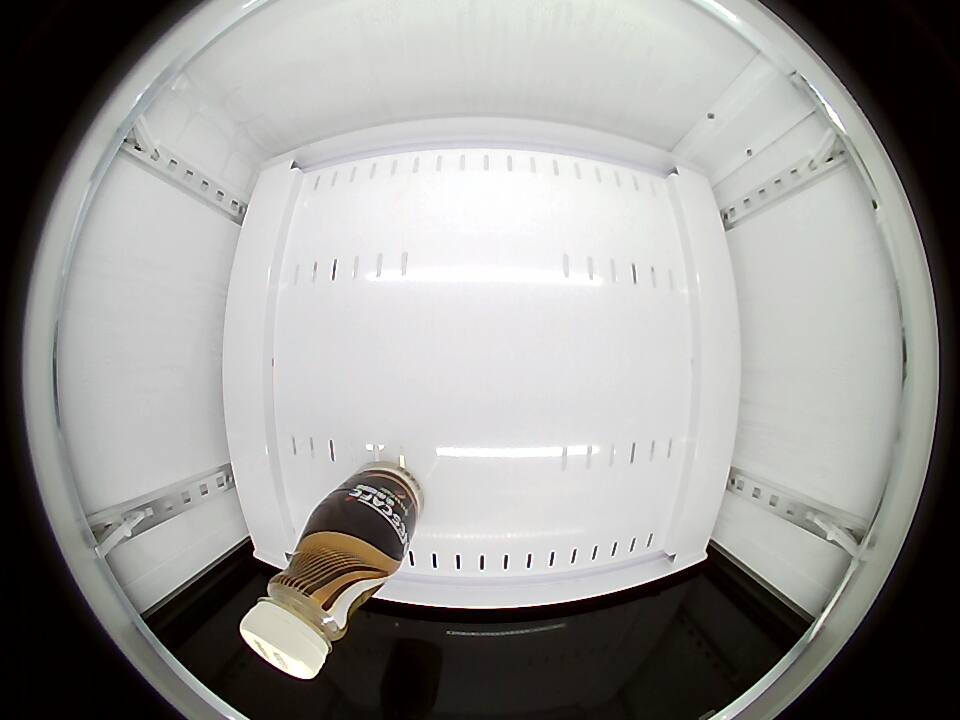kafei: (240, 519, 402, 679)
